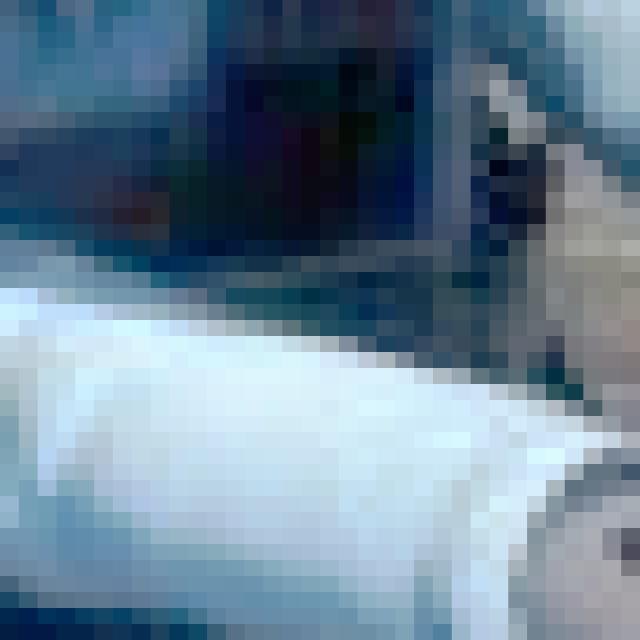arms: (564, 368, 640, 640)
